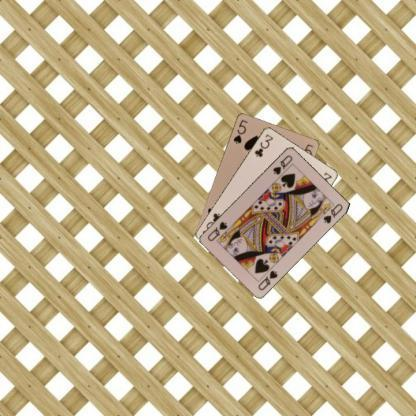3c: (252, 131, 274, 158)
5s: (230, 117, 249, 145)
Qs: (271, 152, 294, 176), (256, 268, 278, 292)
